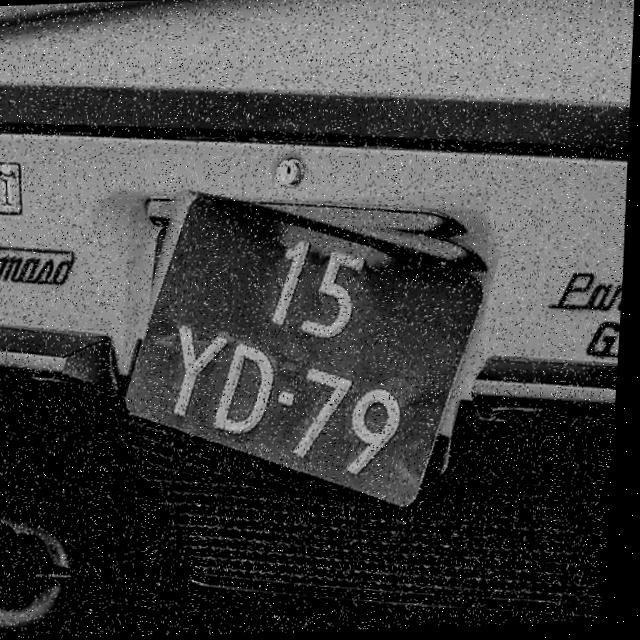LicensePlate: (116, 194, 498, 516)
